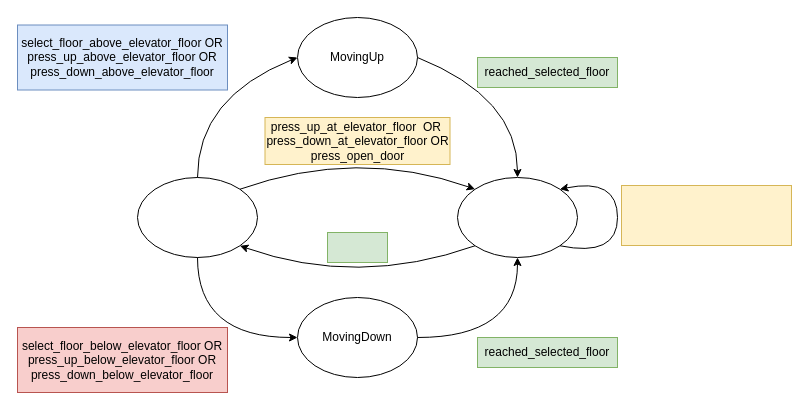
Some shapes in this 809 by 410 pixel diagram are drawn without their labels. Each missing label, with the centre of its shape:
DoorClosed: the point at 197,217
DoorOpen: the point at 517,217
press_up_at_elevator_floor or press_down_at_elevator_floor: the point at 706,215
x seconds: the point at 357,247
